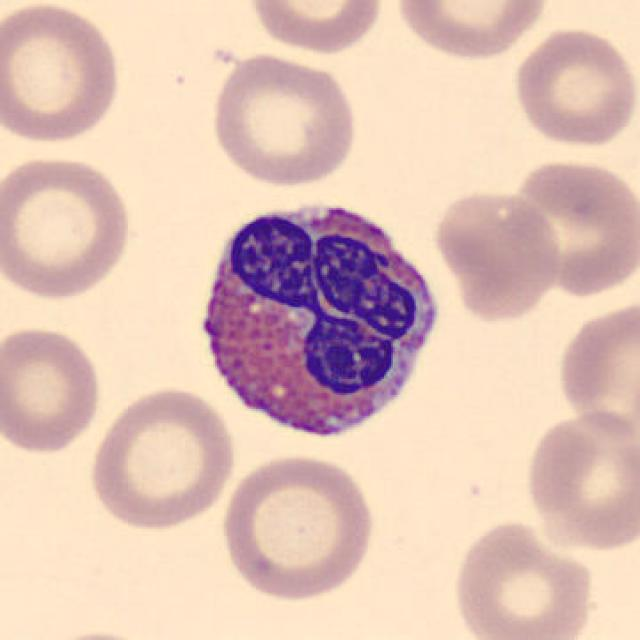Eosinophil: (183, 183, 452, 455)
RBC: (215, 450, 381, 603), (84, 382, 240, 532), (206, 49, 361, 189), (0, 150, 135, 303), (500, 153, 638, 300), (430, 185, 564, 325), (448, 516, 599, 640), (0, 0, 126, 146), (521, 406, 638, 556), (508, 23, 638, 152), (0, 322, 105, 457), (553, 294, 638, 444), (391, 0, 553, 63), (245, 0, 387, 56), (25, 626, 172, 640)
